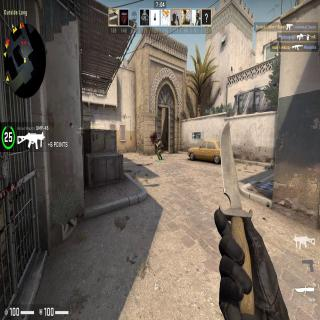CT-Body: (156, 137, 163, 159)
CT-Head: (157, 137, 160, 142)
